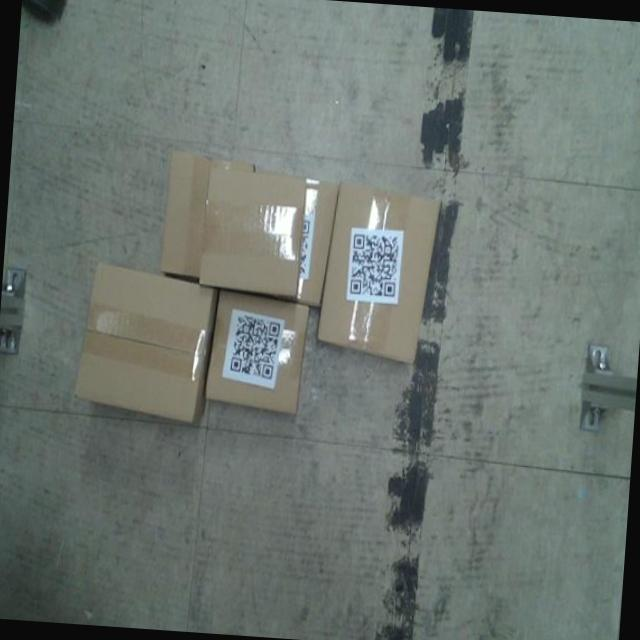box: (313, 175, 444, 368), (69, 259, 215, 425), (194, 163, 308, 301), (203, 288, 317, 425)
